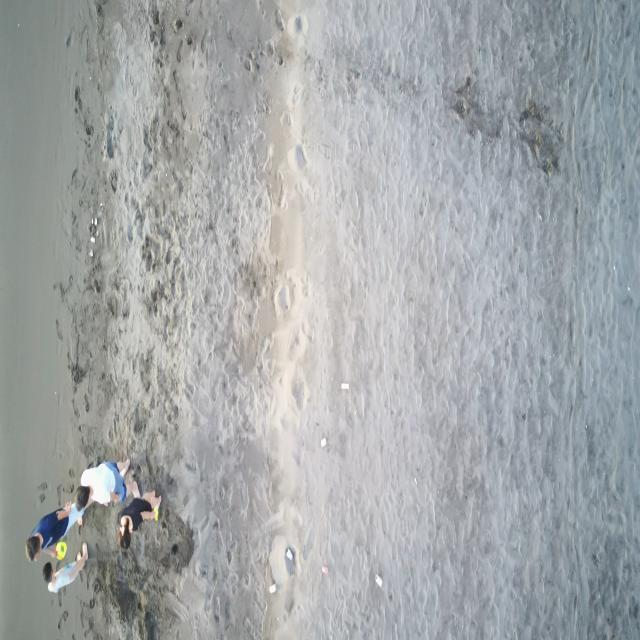Garbage: (284, 547, 293, 575), (375, 573, 382, 587), (320, 564, 327, 575), (320, 436, 326, 447), (268, 584, 276, 592), (340, 382, 347, 388), (89, 236, 95, 243), (88, 248, 92, 256)
